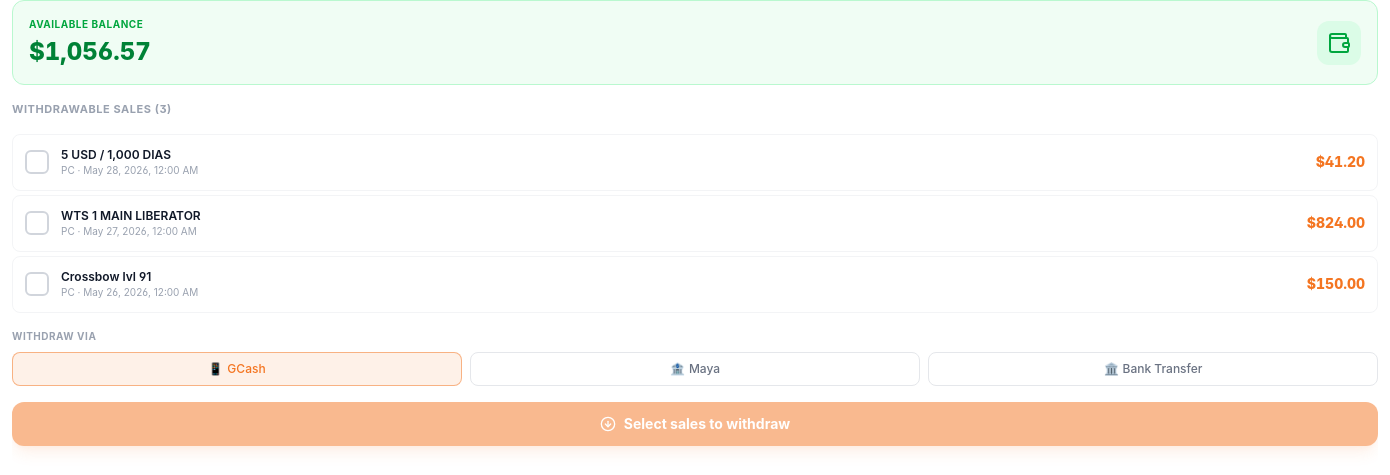
Test: WithdrawalPanel › calculates correct total with multiple selections
Step 1. Click the button "5 USD / 1,000 DIAS" → [116, 154], box [12,134,1378,190]
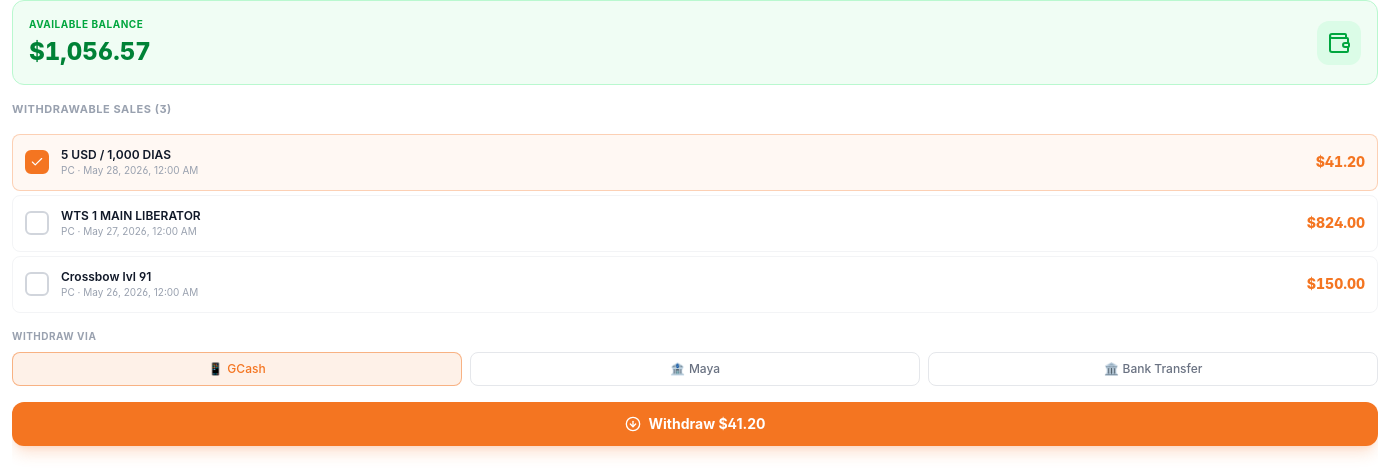
Step 2. Click the button "WTS 1 MAIN LIBERATOR" → [131, 215], box [12,194,1378,252]
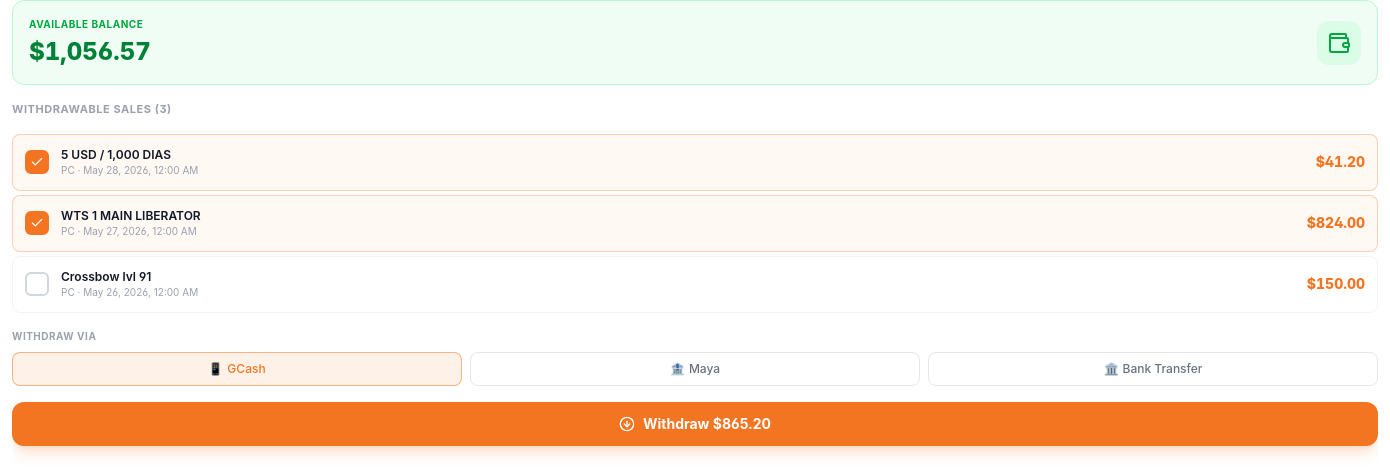
Now the button "Withdraw $865.20" is shown, box [12,402,1378,446]
